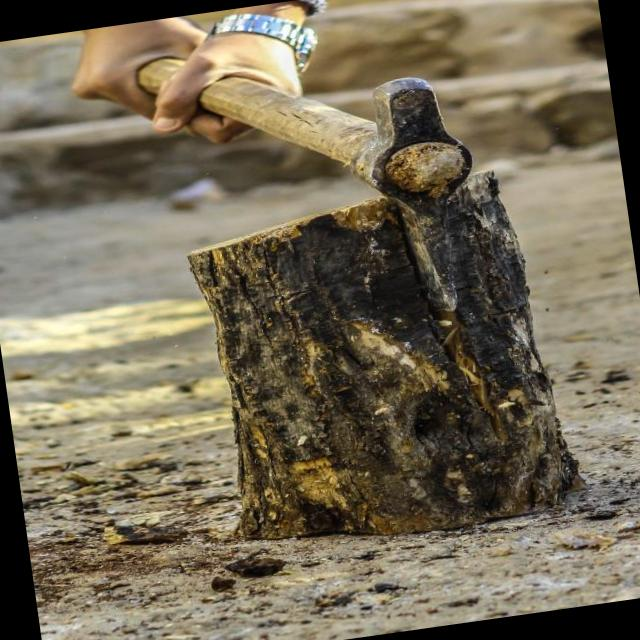Axe: (199, 78, 473, 335)
